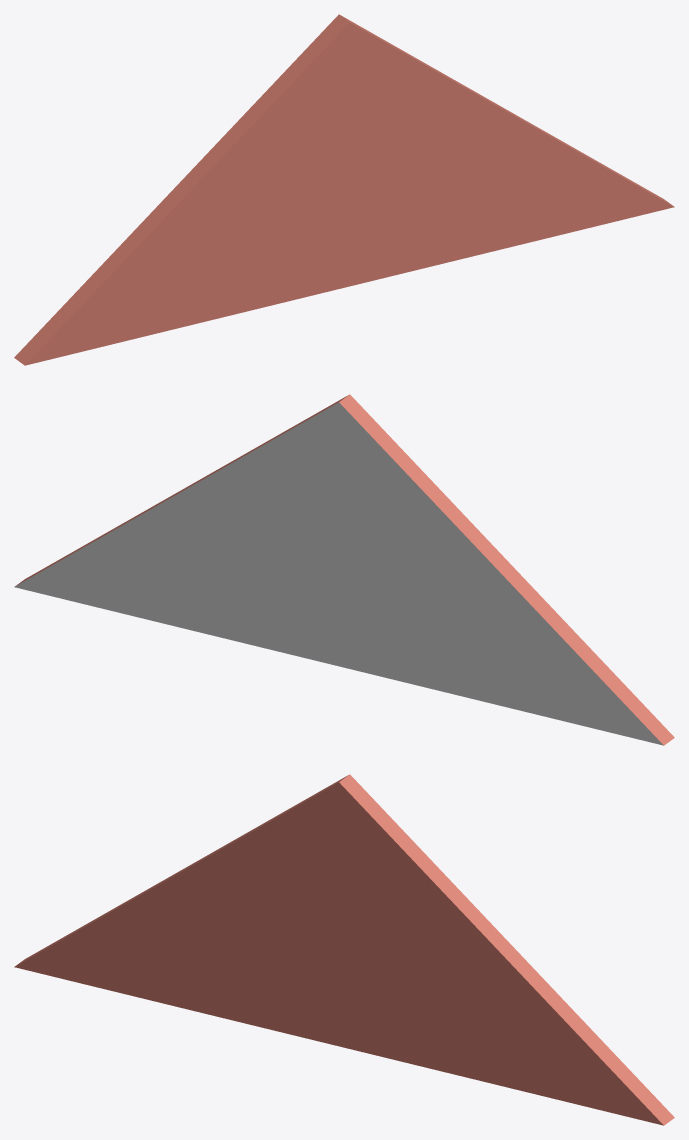
File: Wall1_C6_16.fbx
3 renders of one model, top to bottom at view 1: azimuth 30°, elevation 25°; view 2: azimuth 150°, elevation 25°; view 3: azimuth 330°, elevation 25°, orthographic.
Visible parts, largest first — view 1: Wall1_C6_16; view 2: Wall1_C6_16; view 3: Wall1_C6_16.
Part boxes in pixels (box(x1,y1,x2,y2)): Wall1_C6_16: box(14, 14, 674, 365); Wall1_C6_16: box(14, 394, 674, 745); Wall1_C6_16: box(14, 774, 674, 1125).
Size of the model in its own units: 515 by 200 by 15.
